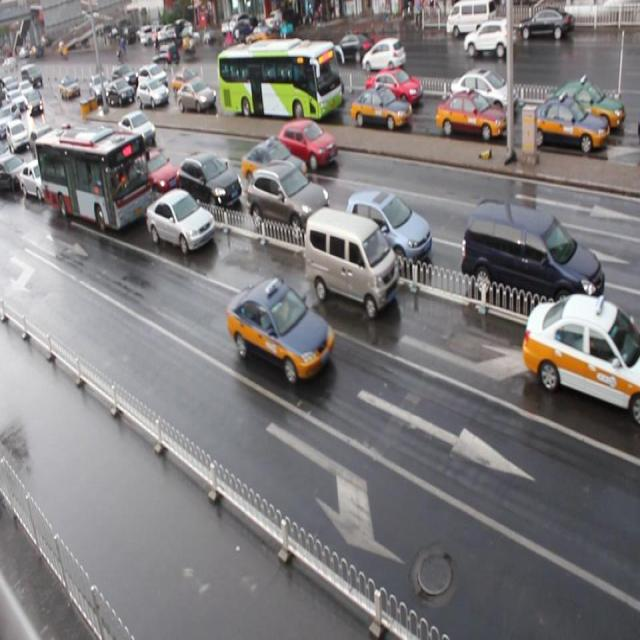car: (522, 290, 640, 420), (226, 277, 333, 383), (340, 189, 430, 273), (248, 160, 329, 233), (523, 94, 606, 154), (146, 188, 215, 255), (241, 138, 312, 202), (547, 80, 626, 133), (177, 150, 242, 208), (436, 94, 508, 144), (450, 67, 520, 113), (276, 118, 336, 171), (350, 86, 410, 132), (286, 66, 345, 109), (363, 68, 417, 110), (133, 146, 179, 194), (86, 134, 125, 174), (20, 158, 54, 202), (177, 78, 218, 113), (118, 113, 156, 147), (38, 130, 69, 170), (1, 151, 29, 192), (136, 81, 170, 109), (29, 128, 56, 162), (138, 61, 166, 91), (174, 67, 203, 95), (107, 75, 134, 104)
truck: (462, 196, 603, 327), (303, 207, 398, 319)
van: (35, 124, 153, 233), (217, 41, 340, 118)
